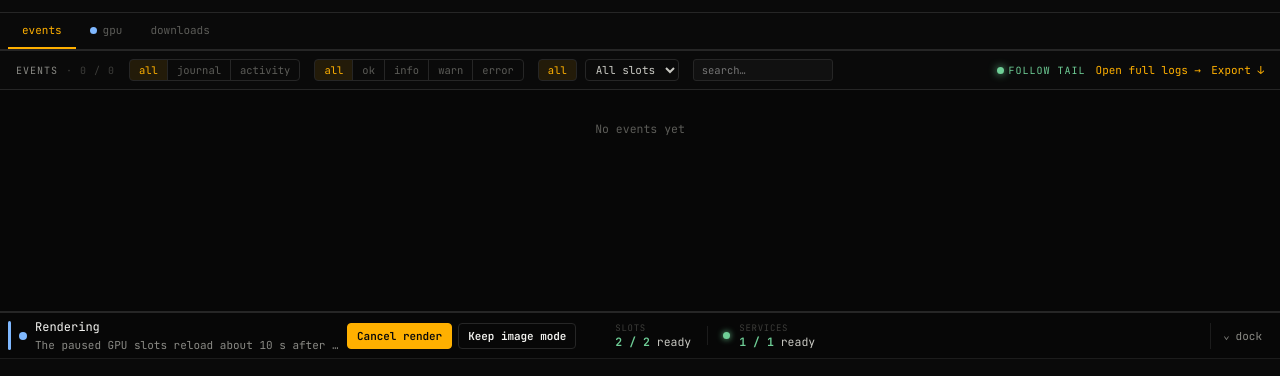
Scenario: the dock GPU tab › once the slots are paused, no resident row matches: no "frees 0 GB", and the paused slots are named
Click the button with test id "dock-tab-gpu". click: (106, 31)
box: [76,13,136,49]
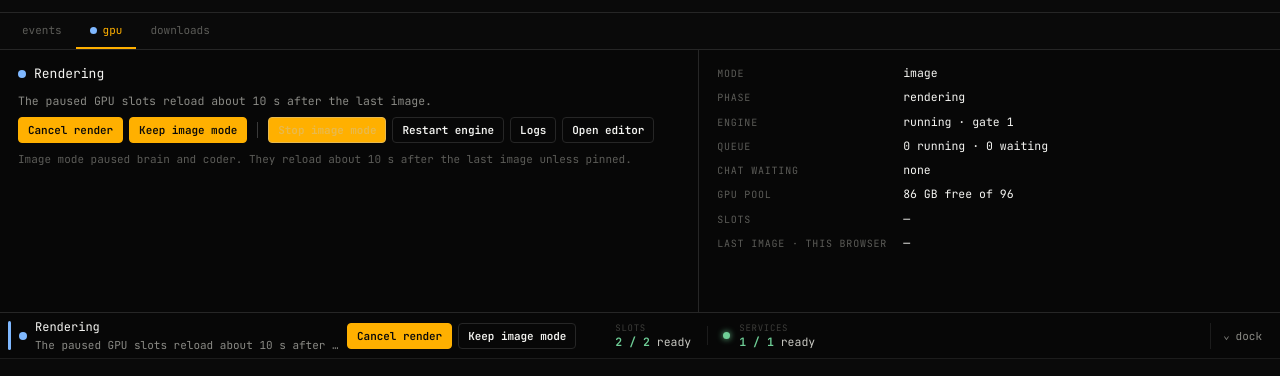
Now the text "gpu pool" is shown, box [717,188,772,201]
Now the text "86 GB free of 96" is shown, box [903,186,1014,201]
Now the text with class "gp-cost" shows "Image mode paused brain and coder. They reload about 10 s after the last image unless pinned.", box [18,152,632,166]
